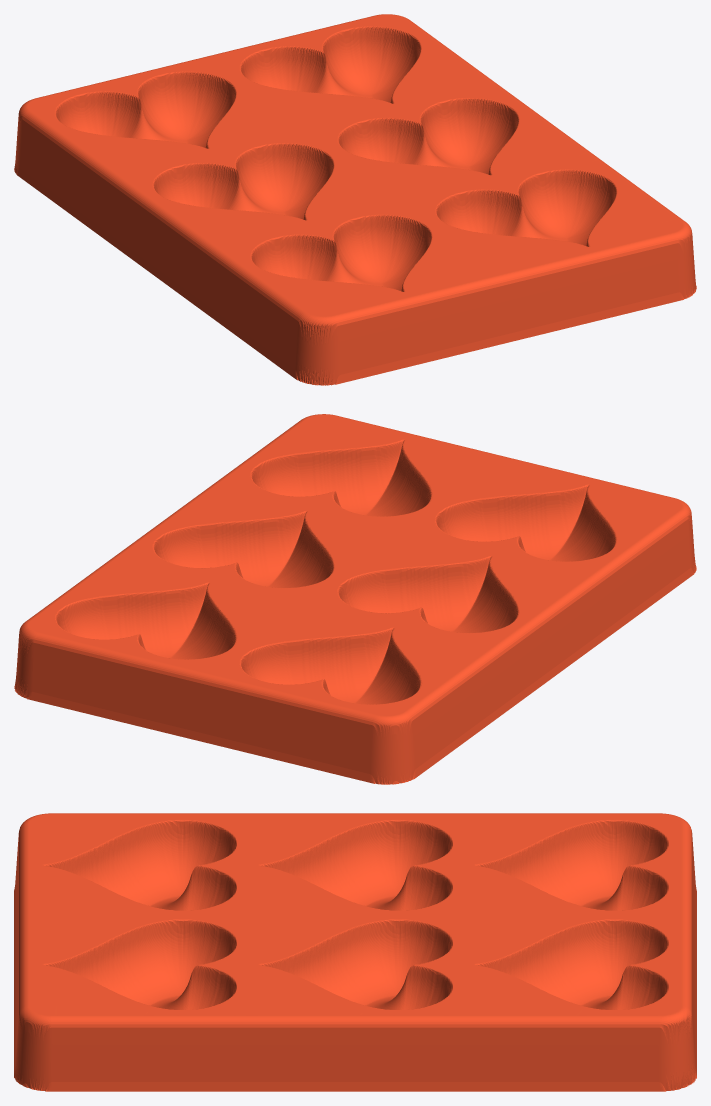
The model's file is mold.glb.
3 renders of one model, top to bottom at view 1: azimuth 30°, elevation 25°; view 2: azimuth 150°, elevation 25°; view 3: azimuth 270°, elevation 25°, orthographic. The views are drawn at different scales.
Parts seen in each view (by area): view 1: geometry_0; view 2: geometry_0; view 3: geometry_0.
Boxes of the visible parts, x1,y1,x2,y2 form: geometry_0: (14, 14, 696, 385); geometry_0: (14, 414, 696, 784); geometry_0: (14, 813, 696, 1091).
Size of the model in its own units: 0.1222 by 0.0185 by 0.1648.
